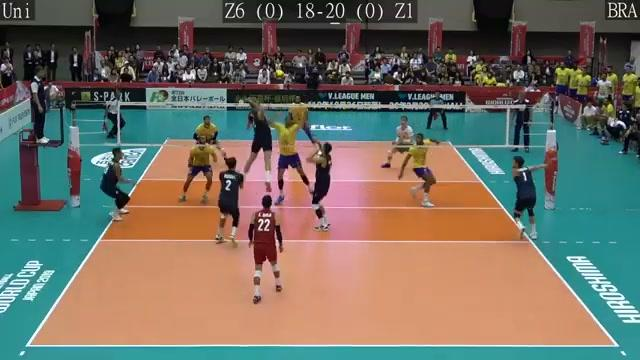ball: (271, 69, 286, 81)
